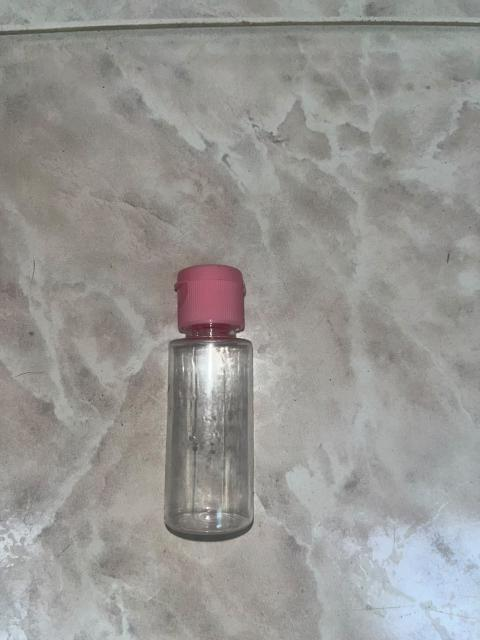PET: (166, 246, 266, 556)
